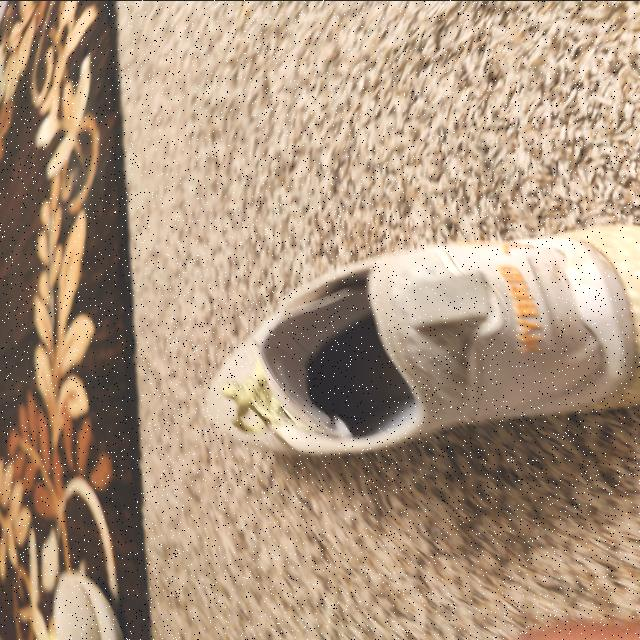white shoes: (271, 245, 634, 445)
